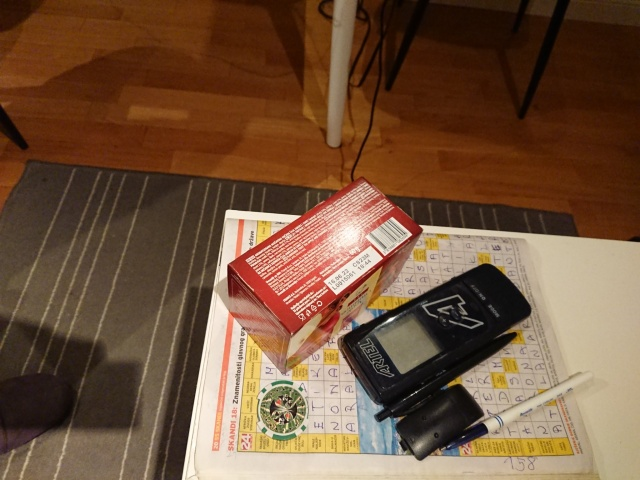Franck Apple Cinnamon Tea 60g: (223, 173, 427, 378)
